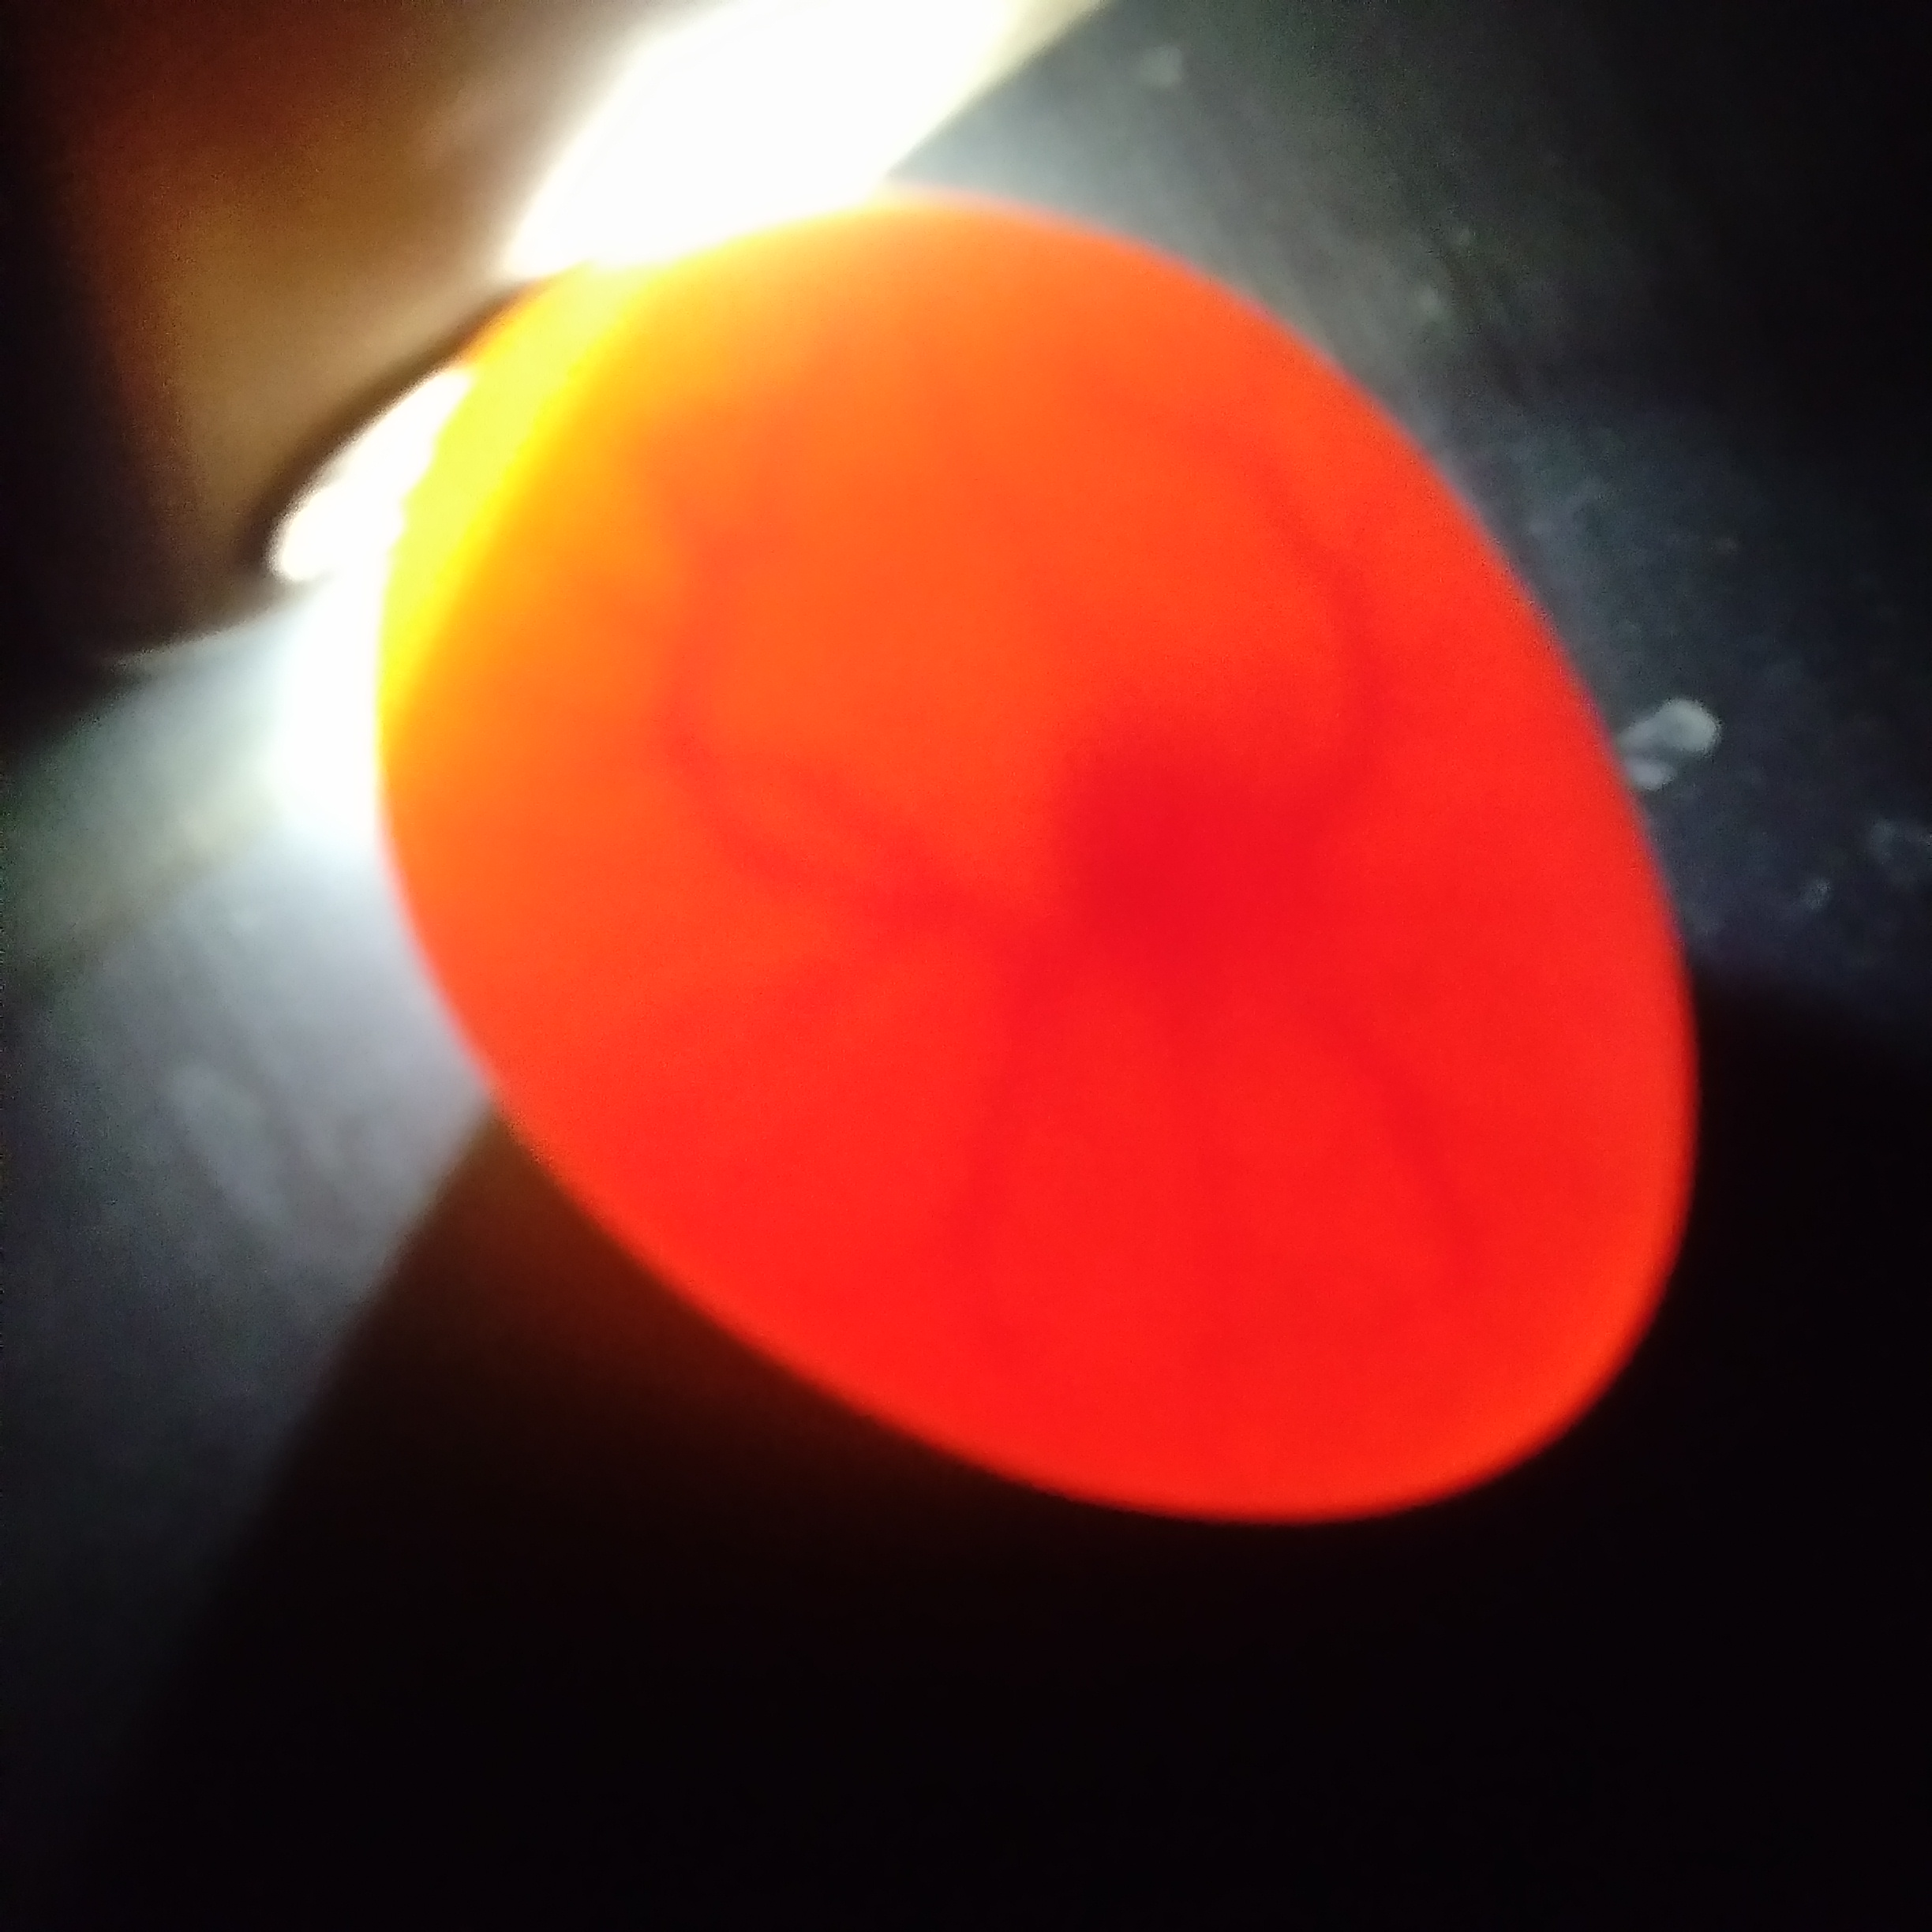bloodcell: (632, 439, 1016, 1208), (1178, 474, 1527, 713)
embryo: (1065, 764, 1315, 991)
